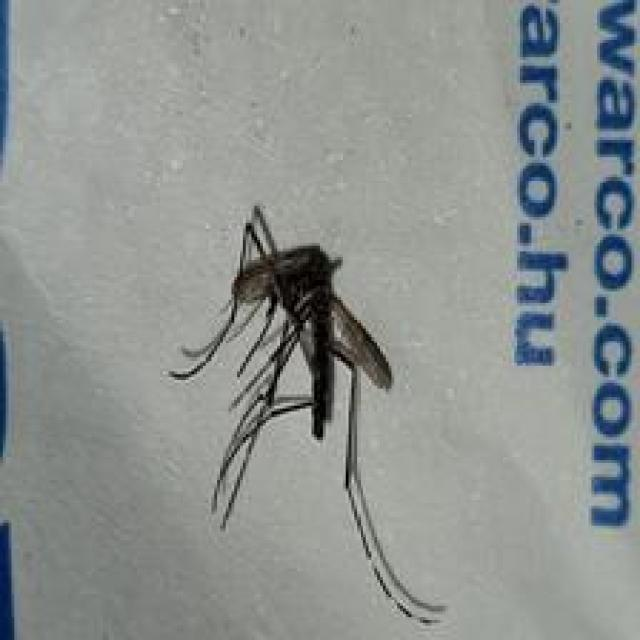Aedes albopictus: (165, 203, 448, 626)
